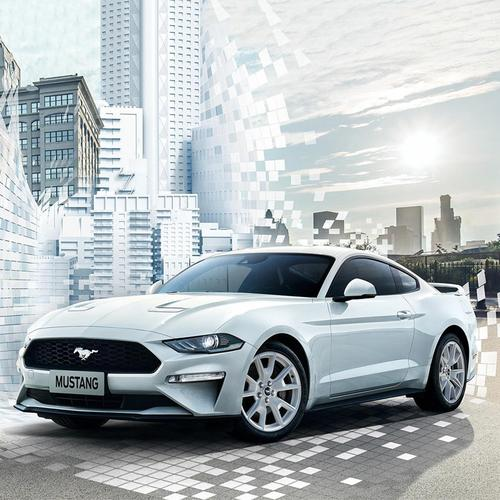汽车: (18, 245, 485, 435)
